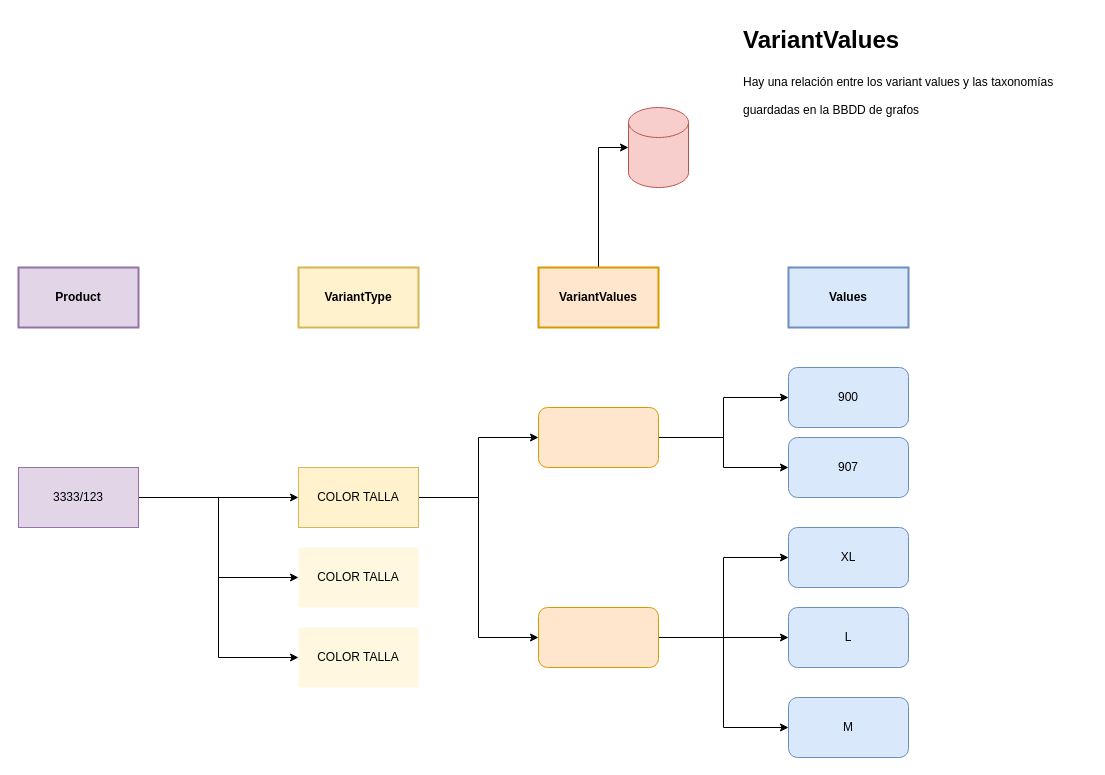
The diagram is 1105 pixels wide and 775 high, and some of its shapes have lost their labels. Each missing label, with the box of its shape:
COLOR: (538, 406, 658, 468)
GRAPH DB: (628, 106, 688, 188)
TALLA: (538, 606, 658, 668)
